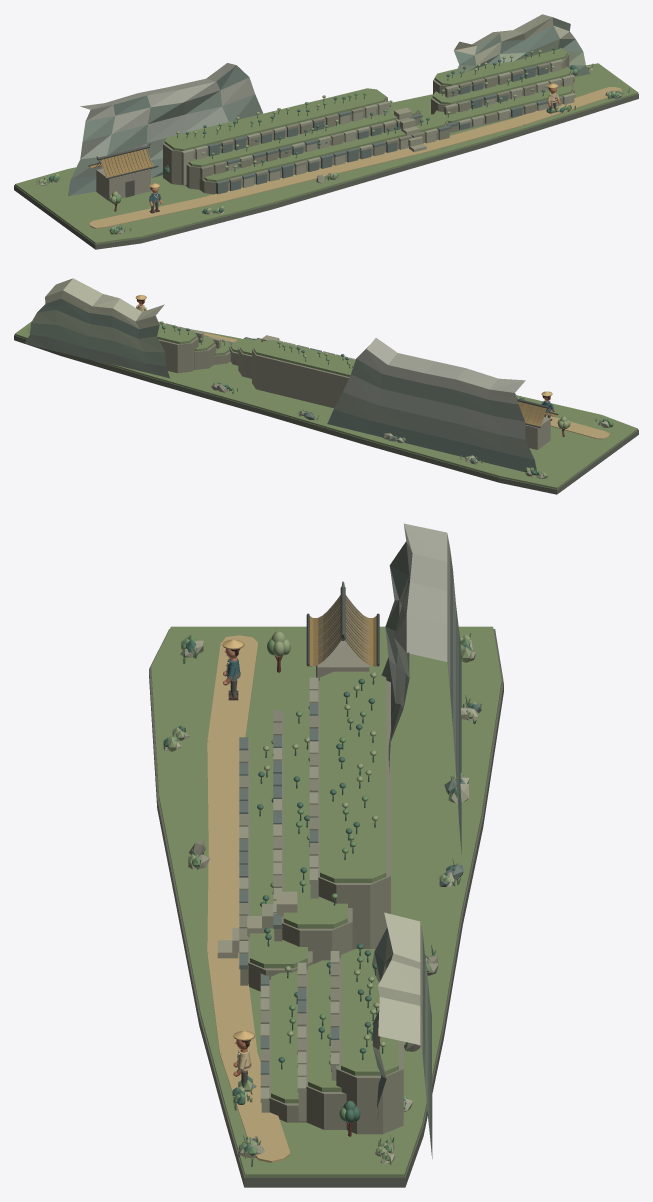
Rendered from andes.glb.
The picture shows the model from 3 angles, top to bottom: view 1: azimuth 30°, elevation 25°; view 2: azimuth 150°, elevation 25°; view 3: azimuth 270°, elevation 25°; orthographic projection. The views are drawn at different scales.
Visible parts, largest first — view 1: TerrainAndBuildings; view 2: TerrainAndBuildings; view 3: TerrainAndBuildings.
Part boxes in pixels (box(x1,y1,x2,y2)): TerrainAndBuildings: box(14, 14, 638, 249); TerrainAndBuildings: box(14, 278, 638, 494); TerrainAndBuildings: box(149, 523, 503, 1187).
Size of the model in its own units: 1.73 by 0.2684 by 0.4717.
